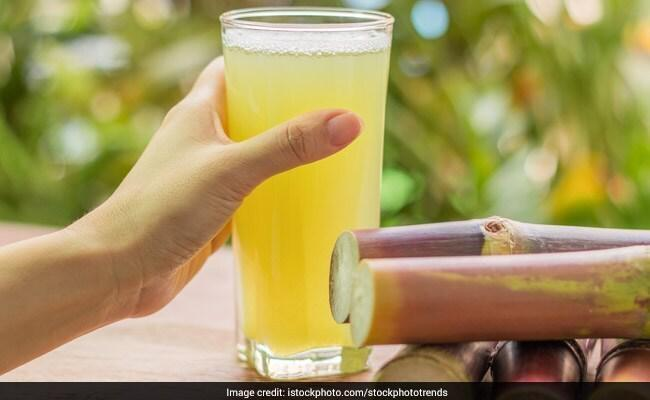glass-normal: (216, 4, 395, 380)
